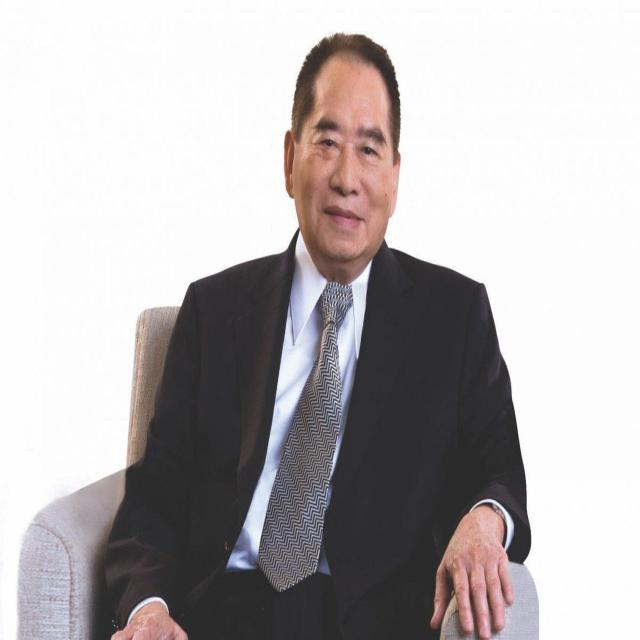human: (96, 31, 536, 639)
